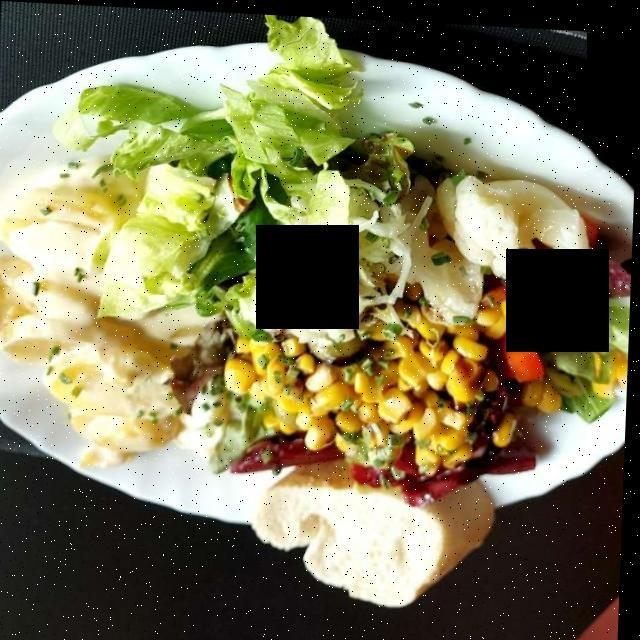beetroot: (370, 373, 542, 489)
bell-pepper: (512, 324, 544, 380)
bread: (270, 462, 496, 589)
cabbage: (294, 171, 426, 342)
cauliflower: (436, 160, 593, 262)
green-olives: (540, 269, 603, 318)
potatoes: (0, 181, 183, 458)
salad: (69, 15, 440, 337)
sweet-corn-canned: (232, 296, 554, 440)
